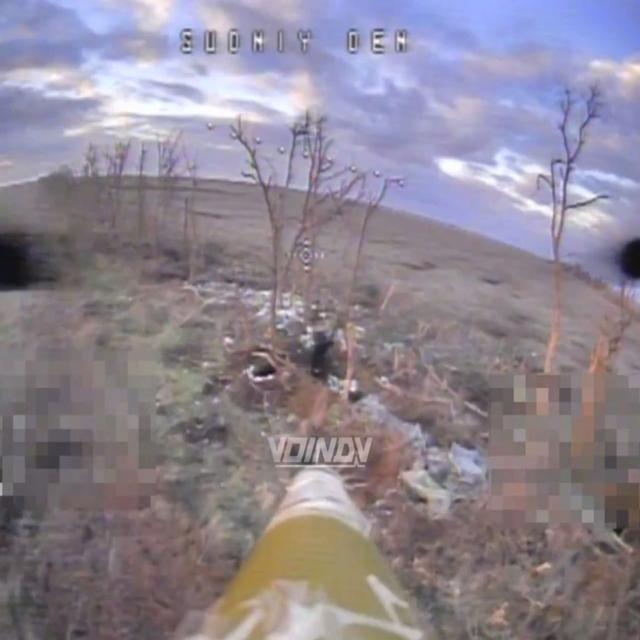fortification: (282, 300, 363, 415), (237, 346, 295, 396)
